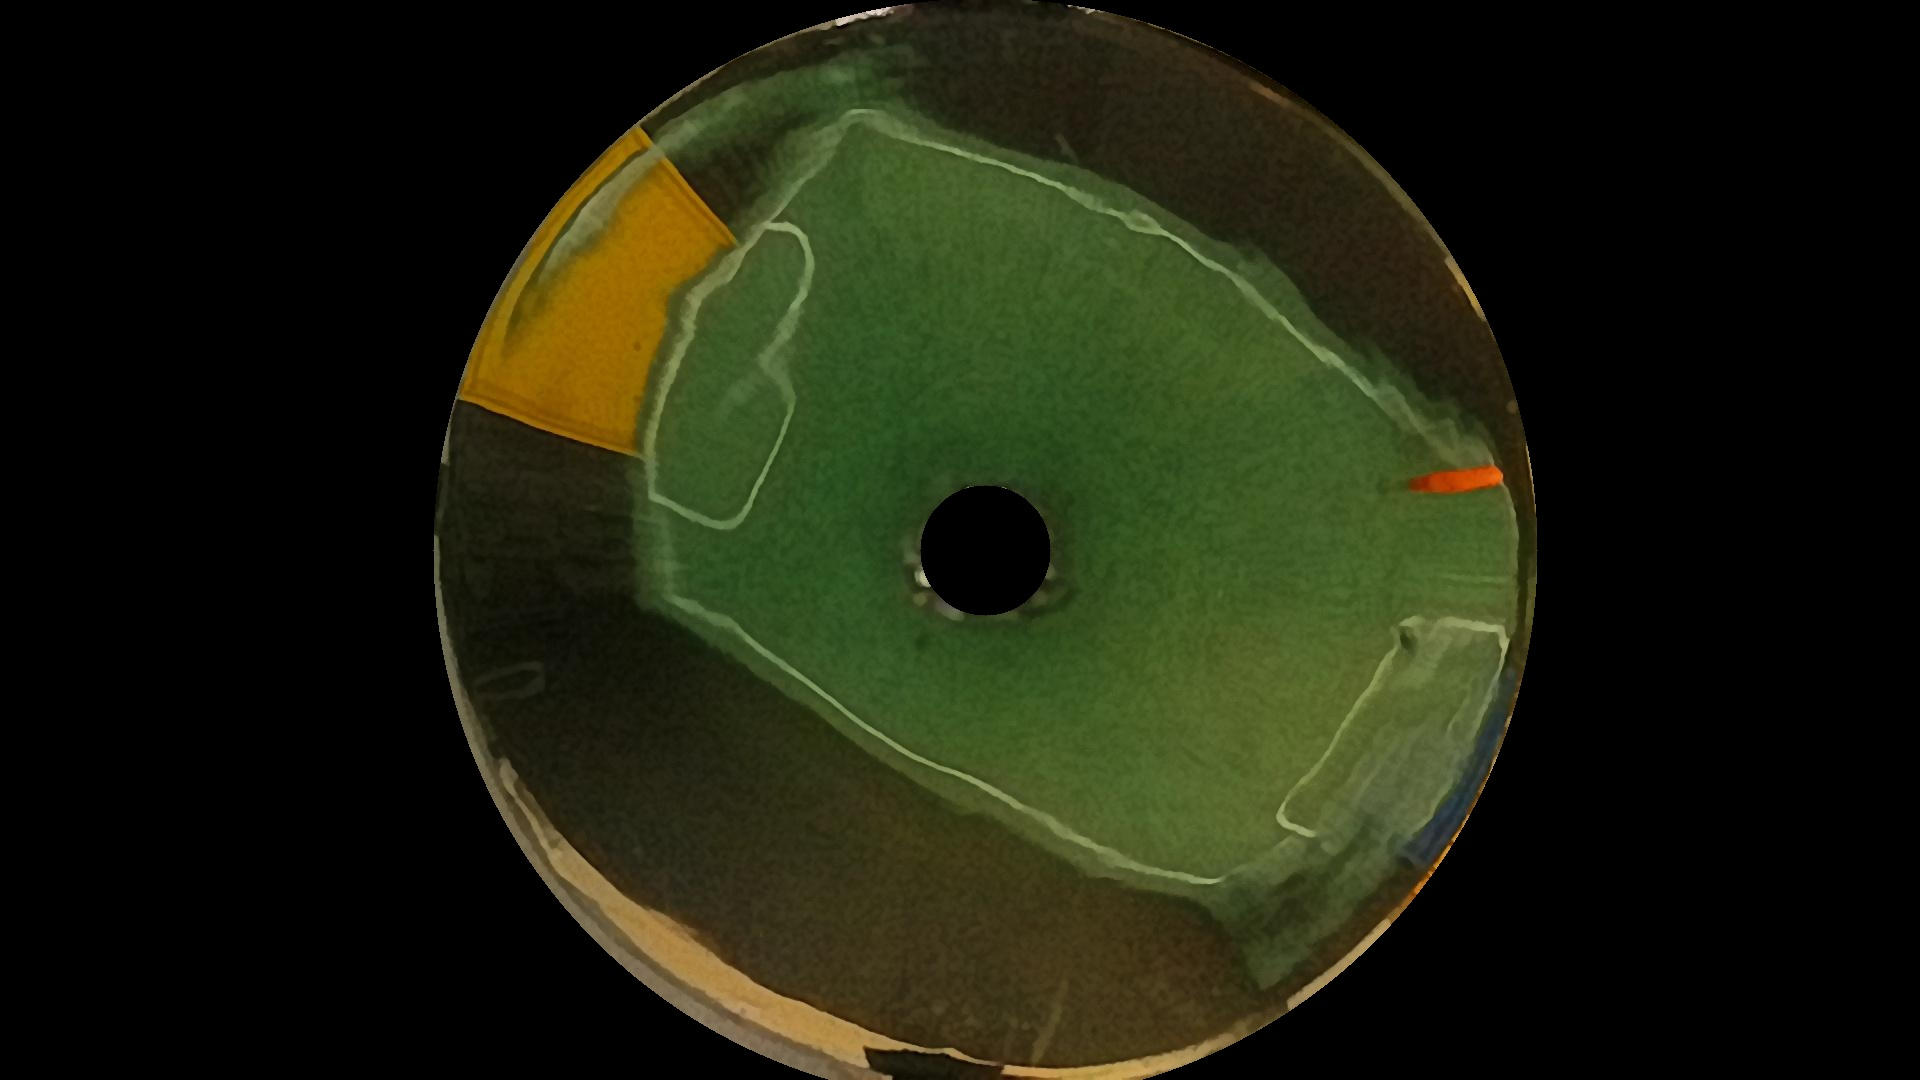ball: (1412, 464, 1505, 491)
blue-goal: (1408, 698, 1522, 874)
yellow-goal: (462, 128, 728, 464)
